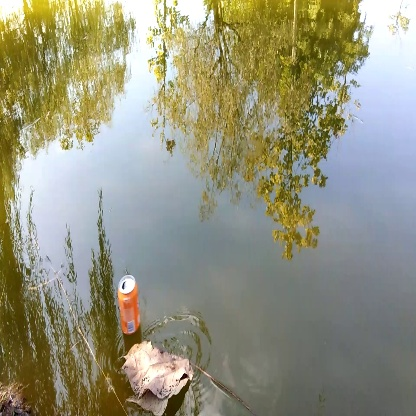bottle: (114, 272, 142, 339)
leaf: (118, 344, 197, 395)
